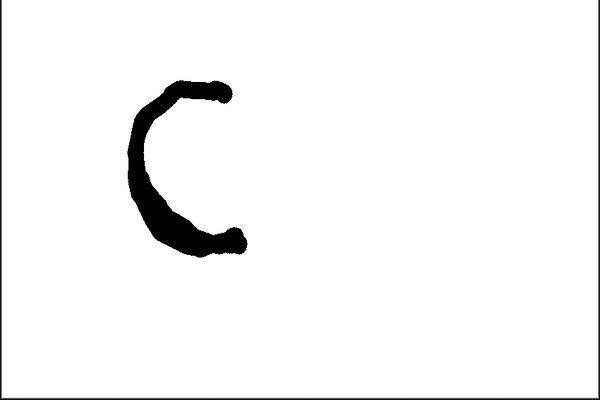C: (120, 66, 251, 262)
